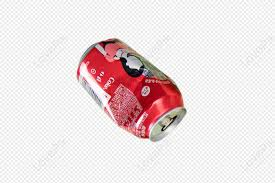metal: (76, 35, 188, 144)
